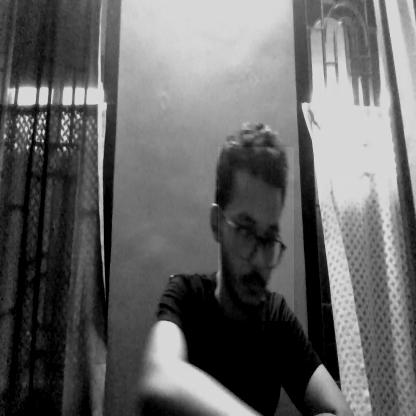Distracted: (218, 147, 294, 321)
